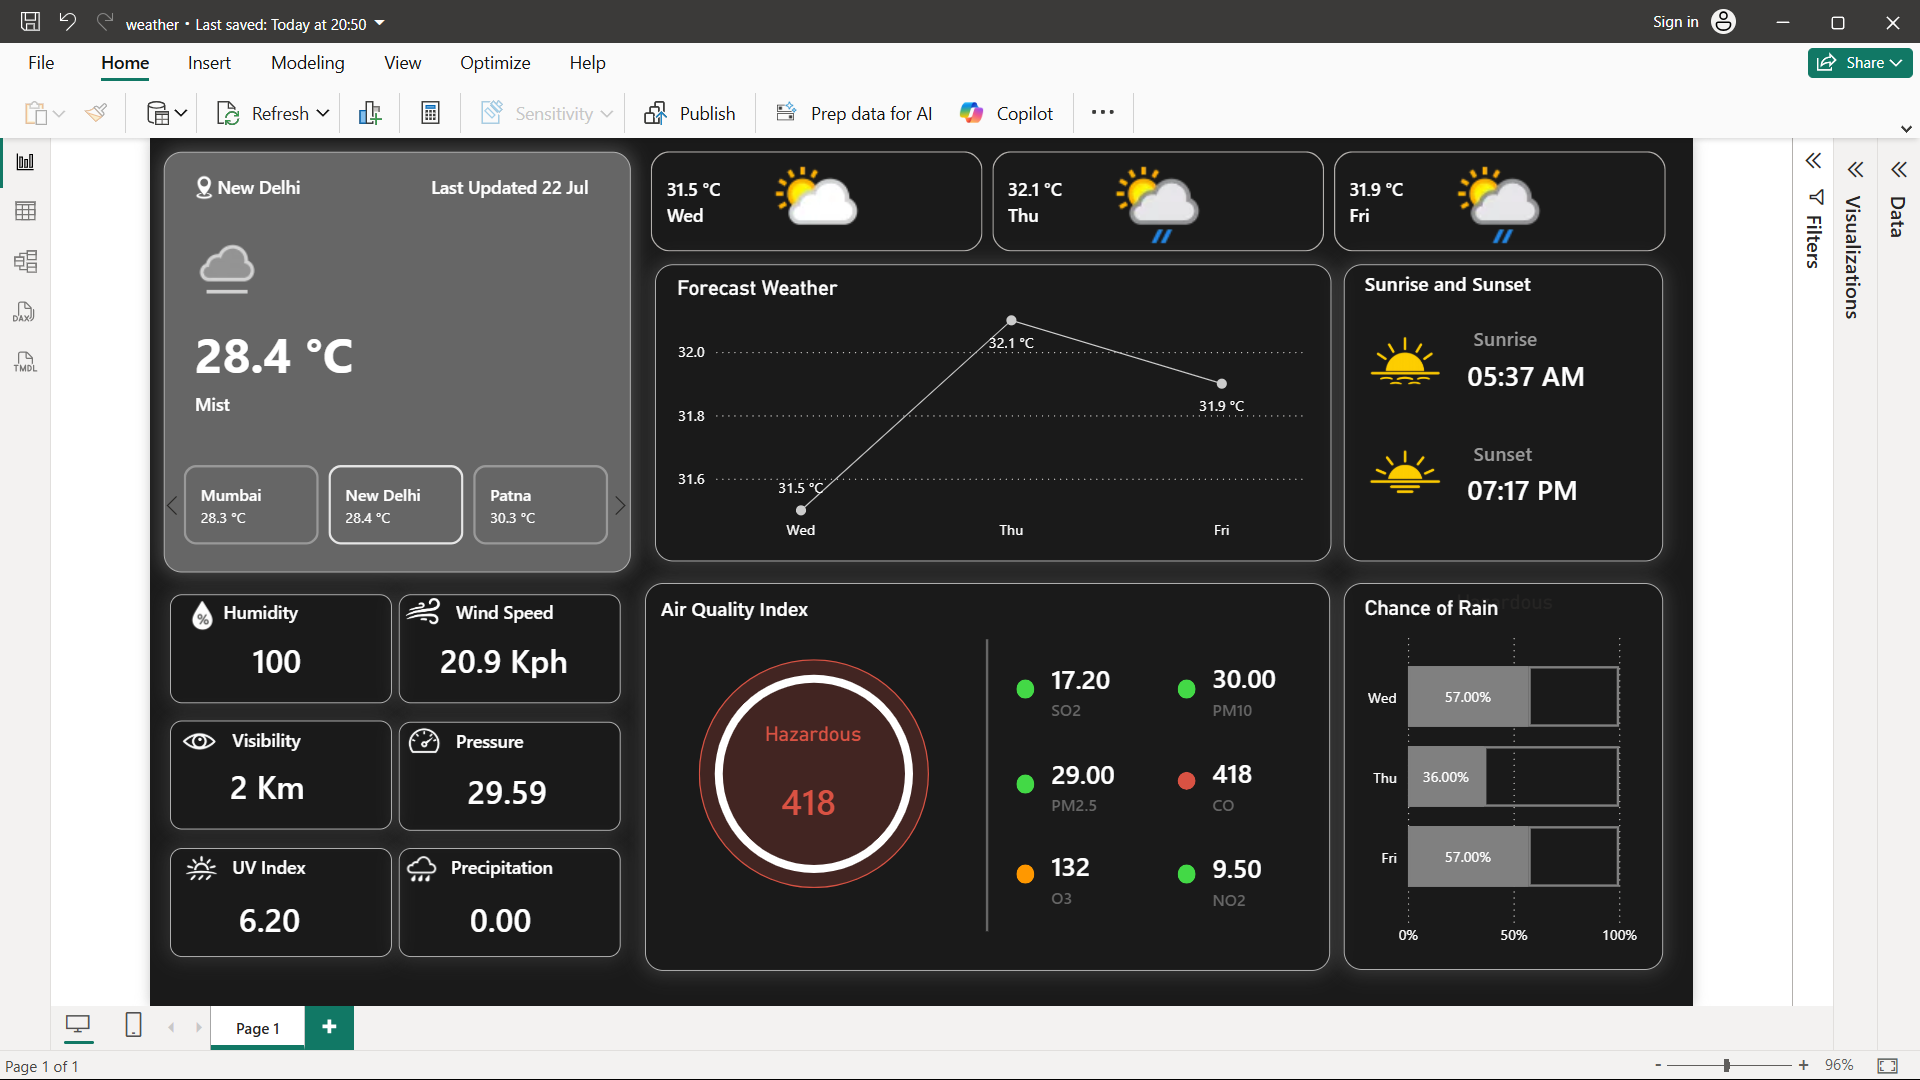

What the dashboard file says about the page in this screenshot:
{"tool":"powerbi","page":{"name":"Page 1","canvas":[1280,720],"ordinal":0},"visuals":[{"type":"shape","box":[410.7,368.5,568,321.5],"z":0},{"type":"shape","box":[989.5,368.6,265.1,320.9],"z":1000},{"type":"shape","box":[205.8,483.7,183.7,90.7],"z":2000},{"type":"shape","box":[205.8,377.9,183.7,90.7],"z":3000},{"type":"shape","box":[205.8,588.4,183.7,90.7],"z":4000},{"type":"shape","box":[16.3,588.4,183.7,90.7],"z":5000},{"type":"shape","box":[16.3,482.6,183.7,90.7],"z":6000},{"type":"shape","box":[11.6,11.6,387.2,348.8],"z":7000},{"type":"advancedSlicerVisual","fields":{"Values":["Locations.location.name"]},"box":[3.1,266.3,402.1,76.7],"z":8000},{"type":"shape","box":[37.5,149.9,274.1,56.2],"z":9000},{"type":"shape","box":[37.5,206.1,274.1,28.1],"z":10000},{"type":"shape","box":[202.6,24.6,160.5,31.6],"z":11000},{"type":"shape","box":[56.2,24.6,119.5,31.6],"z":12000},{"type":"cardVisual","fields":{"Data":["Min(Current.current.condition.icon)"]},"box":[3.5,56.2,112.4,96],"z":13000},{"type":"shape","box":[16.3,377.9,183.7,90.7],"z":14000},{"type":"image","box":[31.6,29.3,24.6,23.4],"z":15000},{"type":"textbox","box":[55.8,377.9,90.7,31.4],"z":16000},{"type":"textbox","box":[244.2,589.5,98.8,31.4],"z":17000},{"type":"textbox","box":[248.8,484.9,90.7,31.4],"z":18000},{"type":"textbox","box":[62.8,589.5,90.7,31.4],"z":19000},{"type":"textbox","box":[62.8,483.7,90.7,31.4],"z":20000},{"type":"textbox","box":[248.8,377.9,90.7,31.4],"z":21000},{"type":"cardVisual","fields":{"Data":["Sum(Current.current.humidity)"]},"box":[55.8,396.5,115.1,69.8],"z":22000},{"type":"cardVisual","fields":{"Data":["_Measures.Wind_speed"]},"box":[211.6,396.5,175.6,68.6],"z":23000},{"type":"cardVisual","fields":{"Data":["_Measures.Visibility"]},"box":[37.2,505.8,152.3,60.5],"z":24000},{"type":"cardVisual","fields":{"Data":["Sum(Current.current.pressure_in)"]},"box":[233.7,505.8,136,68.6],"z":25000},{"type":"cardVisual","fields":{"Data":["Sum(Current.current.precip_in)"]},"box":[236,615.1,136,61.6],"z":26000},{"type":"cardVisual","fields":{"Data":["Sum(Current.current.uv)"]},"box":[44.2,615.1,122.1,61.6],"z":27000},{"type":"image","box":[24.4,382.6,37.2,27.9],"z":28000},{"type":"image","box":[25.6,483.7,30.2,32.6],"z":29000},{"type":"image","box":[205.8,594.2,37.2,24.4],"z":30000},{"type":"image","box":[24.4,594.2,34.9,23.3],"z":31000},{"type":"image","box":[211.6,487.2,32.6,25.6],"z":32000},{"type":"image","box":[209.3,377.9,34.9,27.9],"z":33000},{"type":"advancedSlicerVisual","fields":{"Values":["Forecast_Day.Day_Name"]},"box":[410.5,5.8,853.5,93],"z":34000},{"type":"shape","box":[418.6,104.7,560.5,246.5],"z":35000},{"type":"lineChart","title":"Forecast Weather","fields":{"Y":["Sum(Forecast_Day.forecast.forecastday.day.avgtemp_c)"],"Category":["Forecast_Day.Day_Name"]},"box":[432.6,114,531.4,229.1],"z":36000},{"type":"shape","box":[989.5,104.7,265.1,246.5],"z":37000},{"type":"textbox","box":[1002.3,104.7,194.2,31.4],"z":38000},{"type":"shape","box":[1091.9,172.1,152.3,47.7],"z":39000},{"type":"shape","box":[1091.9,266.3,152.3,47.7],"z":40000},{"type":"image","box":[1008.1,158.1,66.3,55.8],"z":41000},{"type":"image","box":[1008.1,250,66.3,53.5],"z":42000},{"type":"textbox","box":[1091.9,150,75.6,31.4],"z":43000},{"type":"textbox","box":[1091.9,245.3,75.6,31.4],"z":44000},{"type":"hundredPercentStackedBarChart","title":"Chance of Rain","fields":{"Category":["Forecast_Day.Day_Name"],"Y":["Sum(Forecast_Day.forecast.forecastday.day.daily_chance_of_rain)","_Measures.left_value_rain"]},"box":[1002.3,379.1,236,300],"z":45000},{"type":"textbox","box":[418.6,374.4,194.2,31.4],"z":46000},{"type":"cardVisual","title":"PM10","fields":{"Data":["Sum(Current.current.air_quality.pm10)"]},"box":[851.9,418.9,127.9,78.6],"z":47000},{"type":"cardVisual","title":"PM10","fields":{"Data":["Sum(Current.current.air_quality.co)"]},"box":[851.9,497.5,127.9,78.6],"z":48000},{"type":"cardVisual","title":"PM10","fields":{"Data":["Sum(Current.current.air_quality.no2)"]},"box":[851.9,576.2,127.9,78.6],"z":49000},{"type":"cardVisual","title":"PM10","fields":{"Data":["Sum(Current.current.air_quality.so2)"]},"box":[718.6,418.6,126.7,79.1],"z":50000},{"type":"cardVisual","title":"PM10","fields":{"Data":["Sum(Current.current.air_quality.pm2_5)"]},"box":[718.6,497.7,126.7,79.1],"z":51000},{"type":"cardVisual","title":"PM10","fields":{"Data":["Sum(Current.current.air_quality.o3)"]},"box":[718.6,575.6,126.7,77.9],"z":52000},{"type":"shape","box":[718.6,448.8,15.1,16.3],"z":53000},{"type":"shape","box":[852.3,525.6,15.1,15.1],"z":54000},{"type":"shape","box":[852.3,602.3,15.1,16.3],"z":55000},{"type":"shape","box":[852.3,448.8,15.1,16.3],"z":56000},{"type":"shape","box":[718.6,602.3,15.1,16.3],"z":57000},{"type":"shape","box":[718.6,527.9,15.1,16.3],"z":58000},{"type":"shape","box":[673.9,415.5,40.7,242.1],"z":59000},{"type":"shape","box":[455.1,431.8,190.9,189.7],"z":59250},{"type":"donutChart","title":"PM10","fields":{"Y":["Sum(Current.current.air_quality.co)","_Measures.left_value_co"]},"box":[434.1,420.2,232.8,215.3],"z":59500},{"type":"cardVisual","fields":{"Data":["Sum(Current.current.air_quality.co)"]},"box":[474.9,484.2,150.1,109.4],"z":60000}]}

Visuals, with their boxes on the page's 1280x720 design canvas (x1, y1, x2, y2). These are canvas units, not pixel positions in the 1920x1080 screenshot, which may show the page scaled, cropped or inside an application window:
shape: 411:368:979:690
shape: 990:369:1255:690
shape: 206:484:390:574
shape: 206:378:390:469
shape: 206:588:390:679
shape: 16:588:200:679
shape: 16:483:200:573
shape: 12:12:399:360
advancedSlicerVisual - Locations.location.name: 3:266:405:343
shape: 38:150:312:206
shape: 38:206:312:234
shape: 203:25:363:56
shape: 56:25:176:56
cardVisual - Min(Current.current.condition.icon): 4:56:116:152
shape: 16:378:200:469
image: 32:29:56:53
textbox: 56:378:146:409
textbox: 244:590:343:621
textbox: 249:485:340:516
textbox: 63:590:154:621
textbox: 63:484:154:515
textbox: 249:378:340:409
cardVisual - Sum(Current.current.humidity): 56:396:171:466
cardVisual - _Measures.Wind_speed: 212:396:387:465
cardVisual - _Measures.Visibility: 37:506:190:566
cardVisual - Sum(Current.current.pressure_in): 234:506:370:574
cardVisual - Sum(Current.current.precip_in): 236:615:372:677
cardVisual - Sum(Current.current.uv): 44:615:166:677
image: 24:383:62:410
image: 26:484:56:516
image: 206:594:243:619
image: 24:594:59:618
image: 212:487:244:513
image: 209:378:244:406
advancedSlicerVisual - Forecast_Day.Day_Name: 410:6:1264:99
shape: 419:105:979:351
"Forecast Weather" lineChart: 433:114:964:343
shape: 990:105:1255:351
textbox: 1002:105:1196:136
shape: 1092:172:1244:220
shape: 1092:266:1244:314
image: 1008:158:1074:214
image: 1008:250:1074:304
textbox: 1092:150:1168:181
textbox: 1092:245:1168:277
"Chance of Rain" hundredPercentStackedBarChart: 1002:379:1238:679
textbox: 419:374:613:406
"PM10" cardVisual: 852:419:980:498
"PM10" cardVisual: 852:498:980:576
"PM10" cardVisual: 852:576:980:655
"PM10" cardVisual: 719:419:845:498
"PM10" cardVisual: 719:498:845:577
"PM10" cardVisual: 719:576:845:654
shape: 719:449:734:465
shape: 852:526:867:541
shape: 852:602:867:619
shape: 852:449:867:465
shape: 719:602:734:619
shape: 719:528:734:544
shape: 674:416:715:658
shape: 455:432:646:622
"PM10" donutChart: 434:420:667:636
cardVisual - Sum(Current.current.air_quality.co): 475:484:625:594
